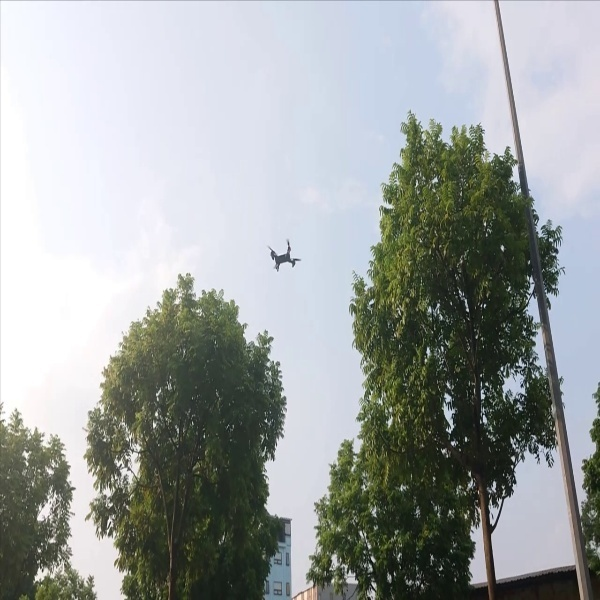drone: (262, 234, 307, 283)
